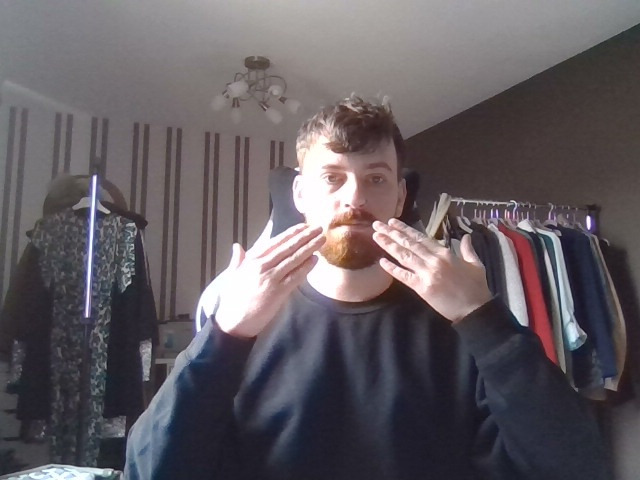Thanks: (207, 193, 501, 342)
